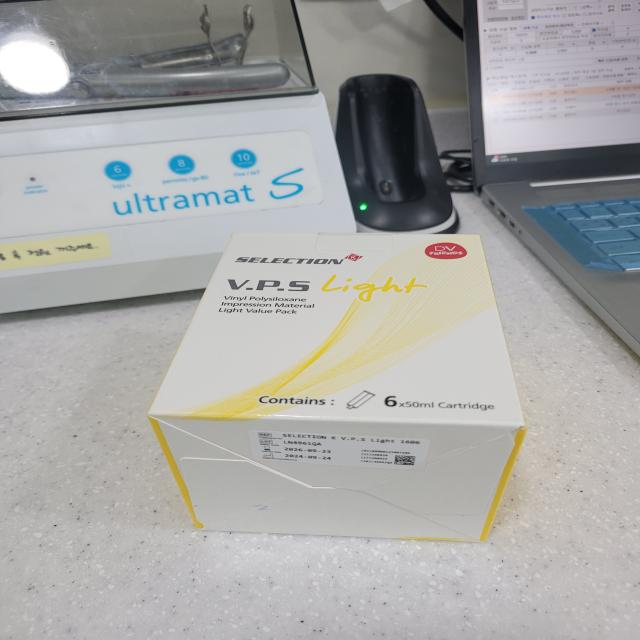impression: (141, 218, 545, 568)
